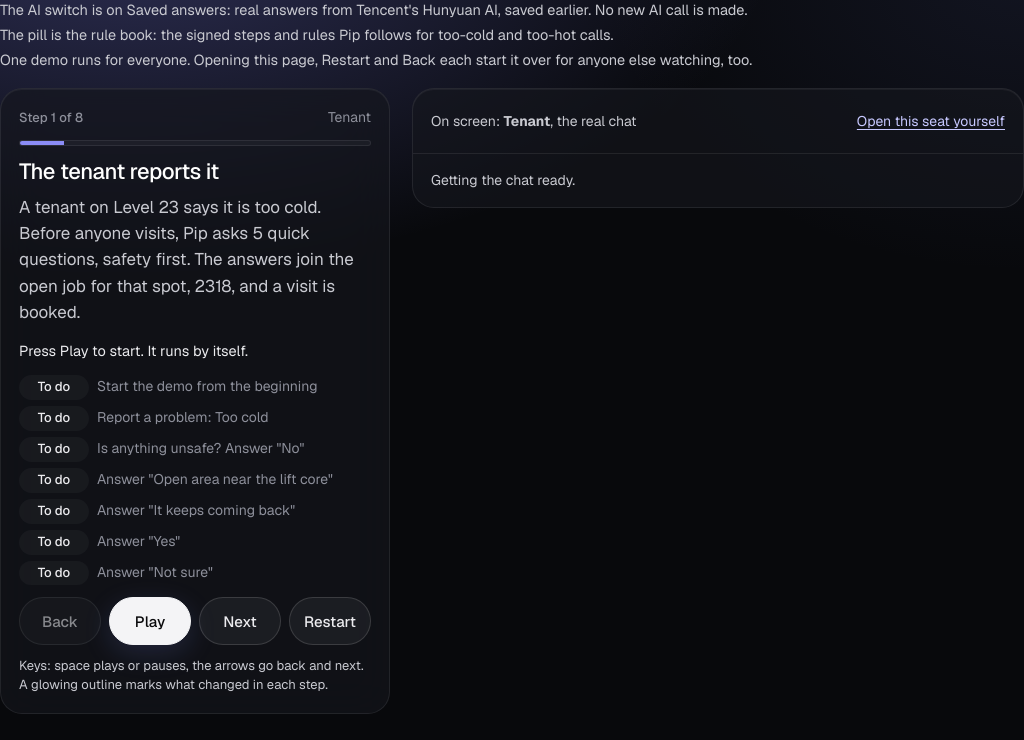
it: D2: Story mode plays the real app by itself › Next runs the next step's real presses; Back resets, replays quickly to the step before and shows it
Click the button "Next" at (240,621), box left=199, top=597, right=281, bottom=645
(page scrolled)
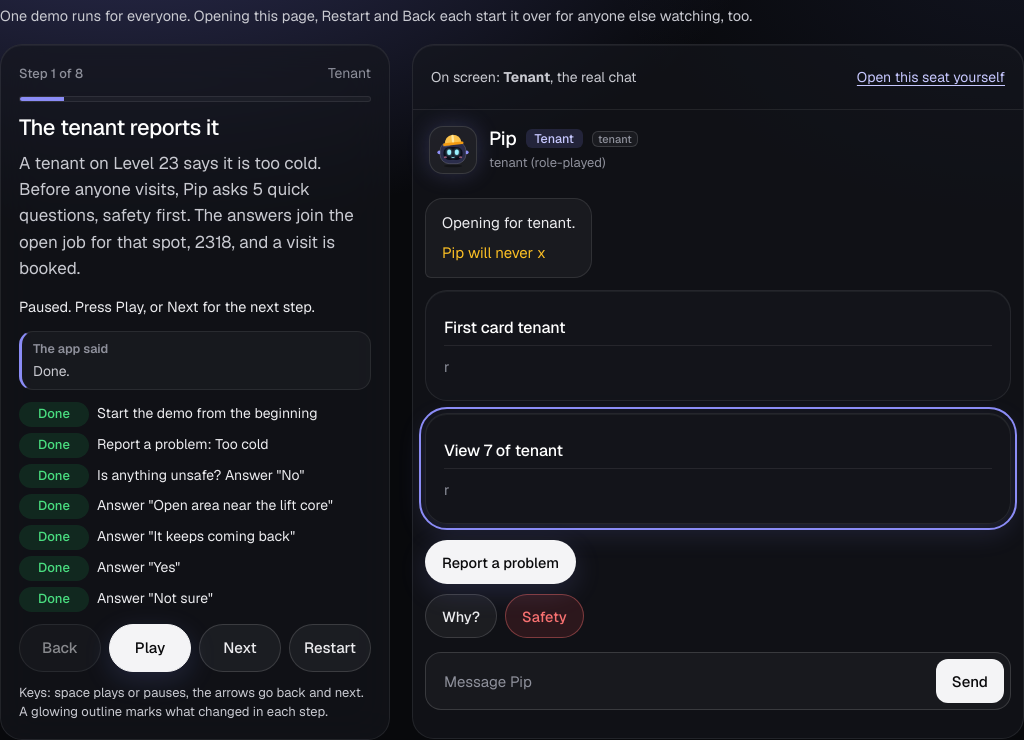
expect the element with test id "story-stage" has attribute data-phase="shown": met, box left=412, top=44, right=1023, bottom=739
Click the button "Next" at (240,648), box left=199, top=624, right=281, bottom=672
(page scrolled)
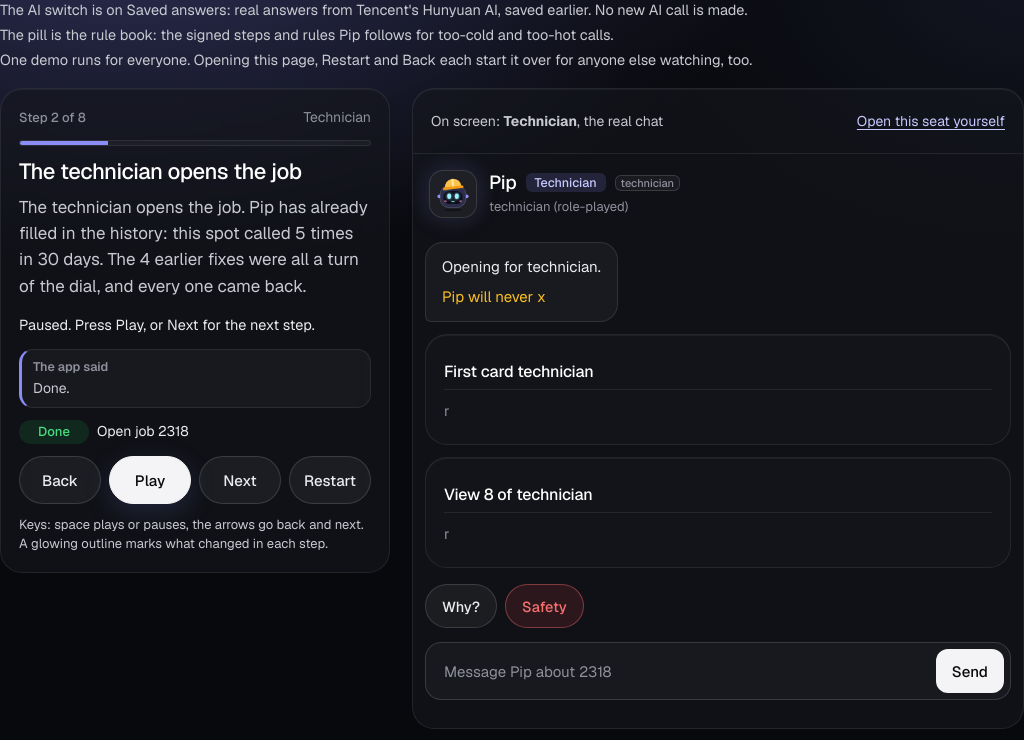
expect the text with test id "story-count" reads "Step 2 of 8": met, box left=19, top=109, right=86, bottom=126
Click the button "Back" at (60,480), box left=19, top=456, right=101, bottom=504
(page scrolled)
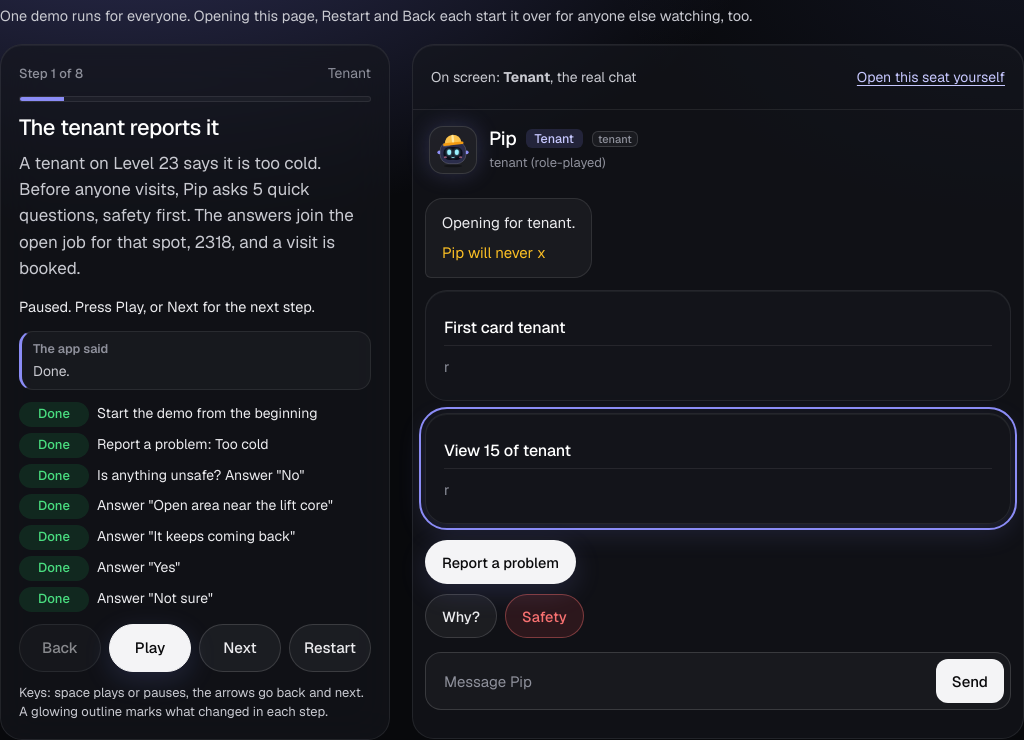
expect the button "Play" is shown: met, box left=109, top=624, right=191, bottom=672
expect the element with test id "story-said" reads "The app said Done.": met, box left=19, top=332, right=371, bottom=390
expect the text with test id "story-count" reads "Step 1 of 8": met, box left=19, top=65, right=83, bottom=82
